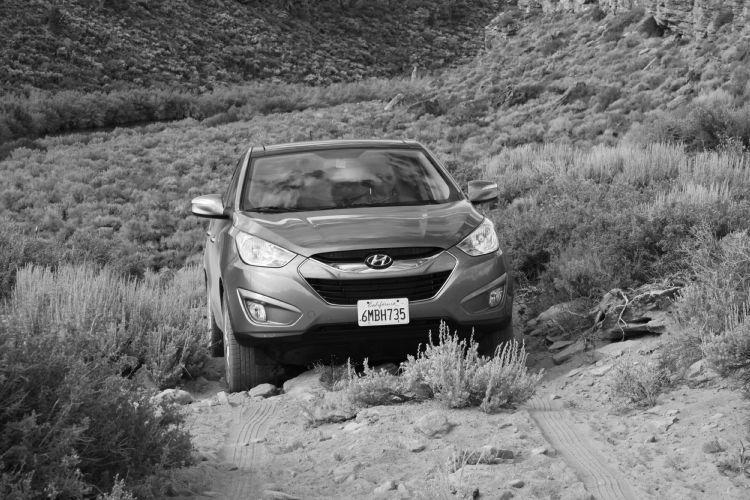car: (190, 139, 508, 394)
